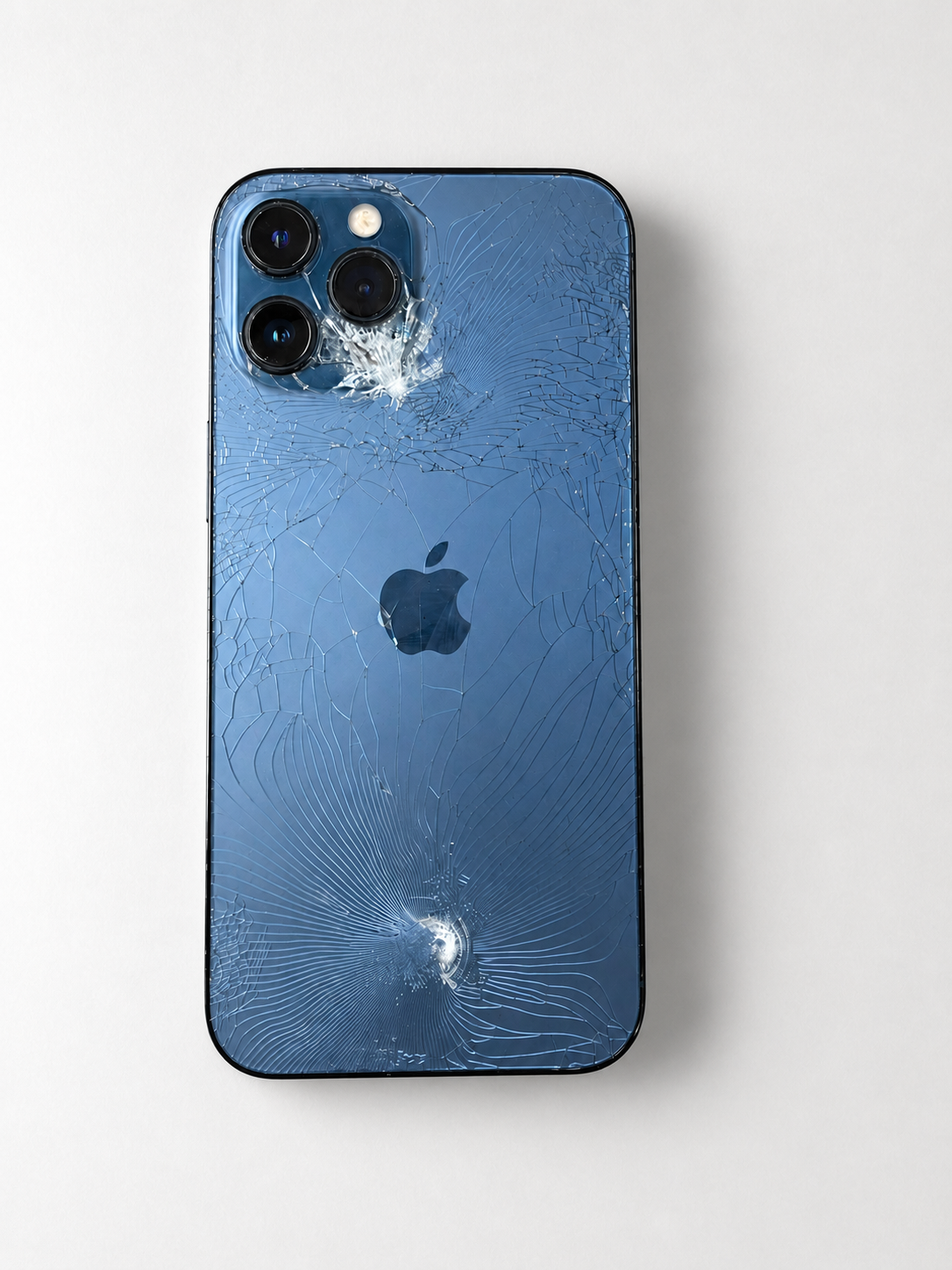iphone_12_pro_max_Crack: (161, 112, 666, 1153)
